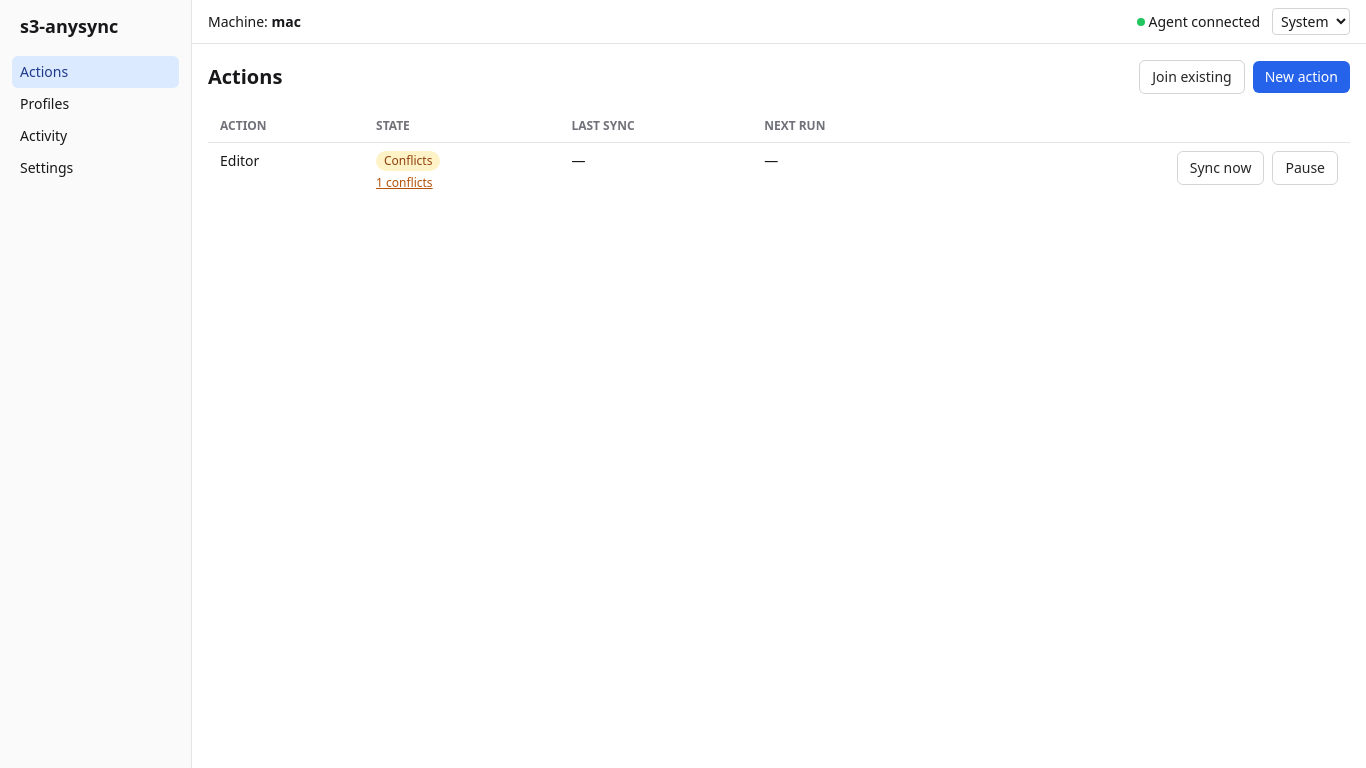
Test: without deletions Apply resolves directly and a failure keeps the choices
The image size is (1366, 768).
What coordinates should you click on to do the following:
click the button "1 conflicts"
I would click on:
 (404, 183)
Its box is [376,175,433,191].
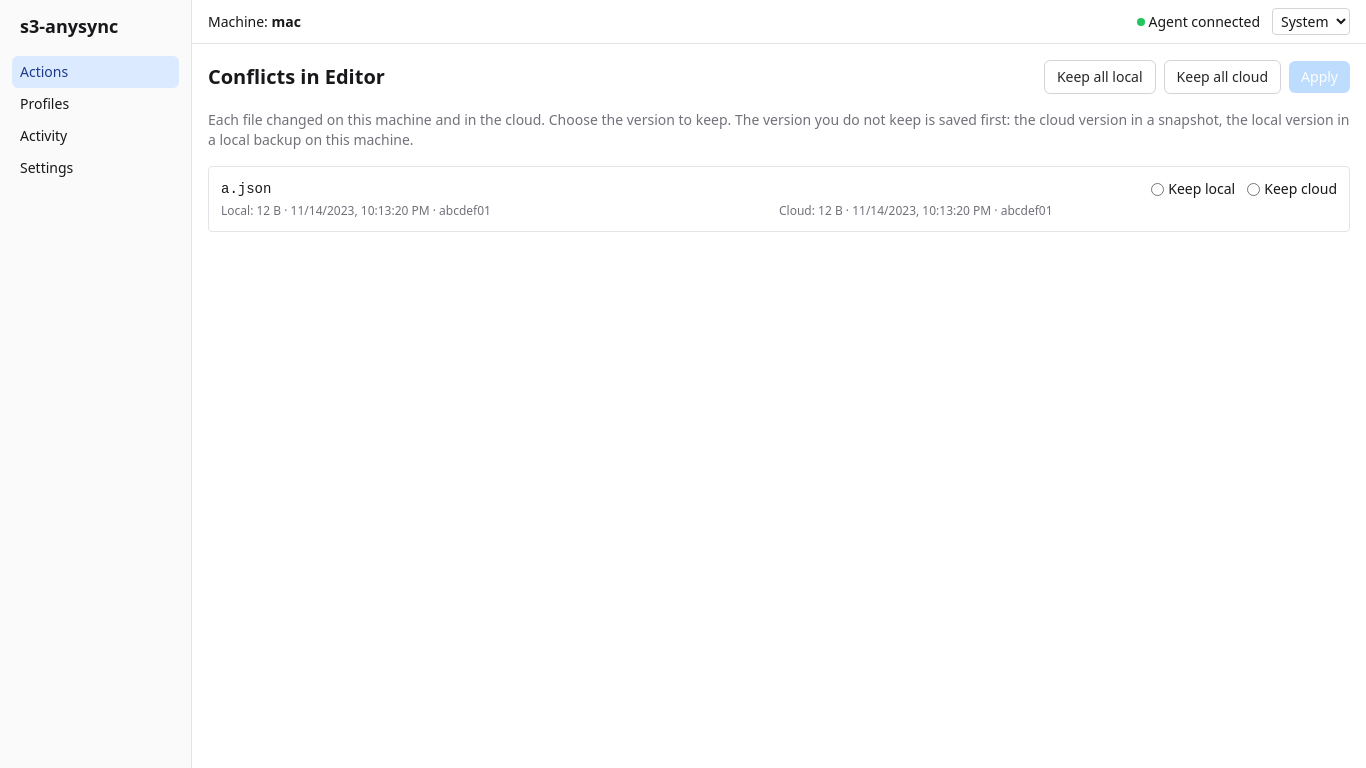
Expected: the heading "Conflicts in Editor" is shown, [208,63,385,91]
What coordinates should you click on to do the following:
click the radio button with aria-label "Keep cloud a.json"
I would click on:
 (1254, 189)
Its box is [1247,182,1260,196].
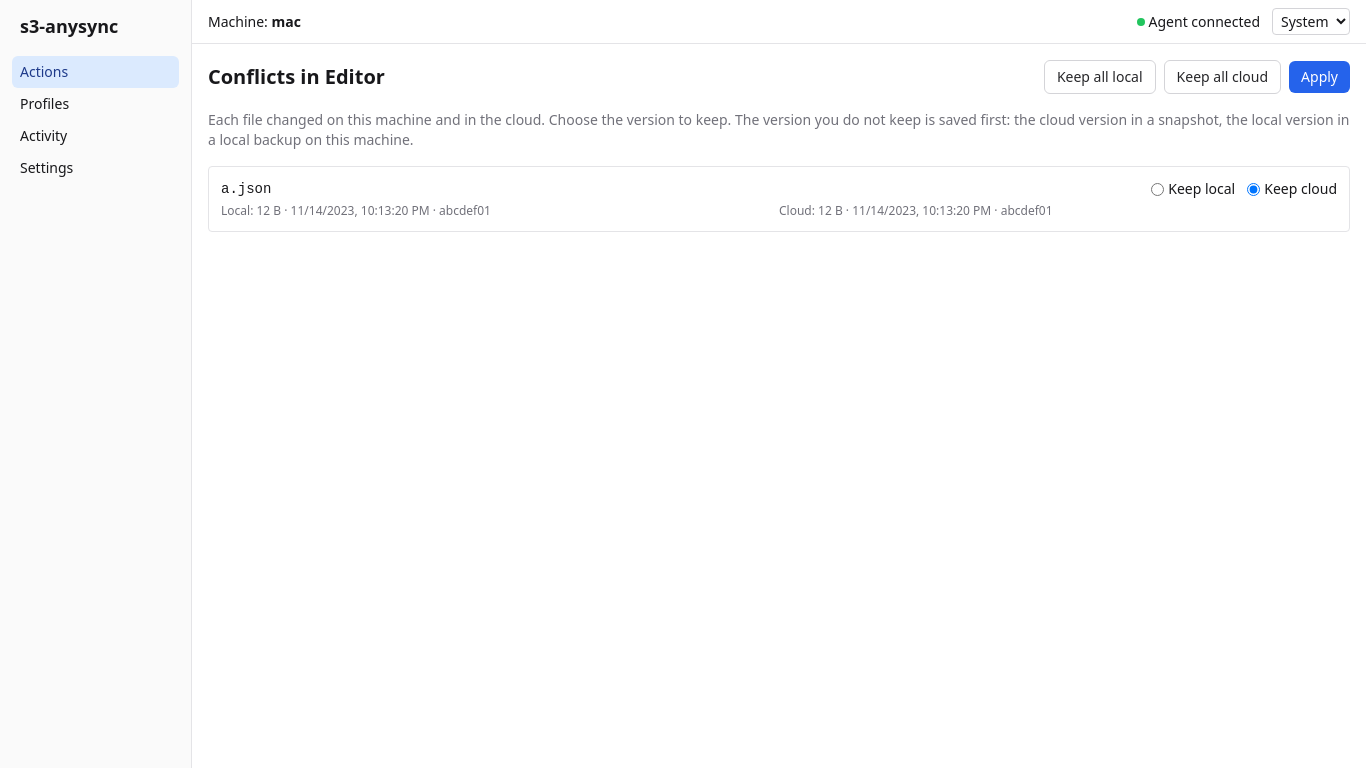
What coordinates should you click on to do the following:
click the button "Apply"
I would click on:
 (1320, 77)
Its box is [1289,61,1350,93].
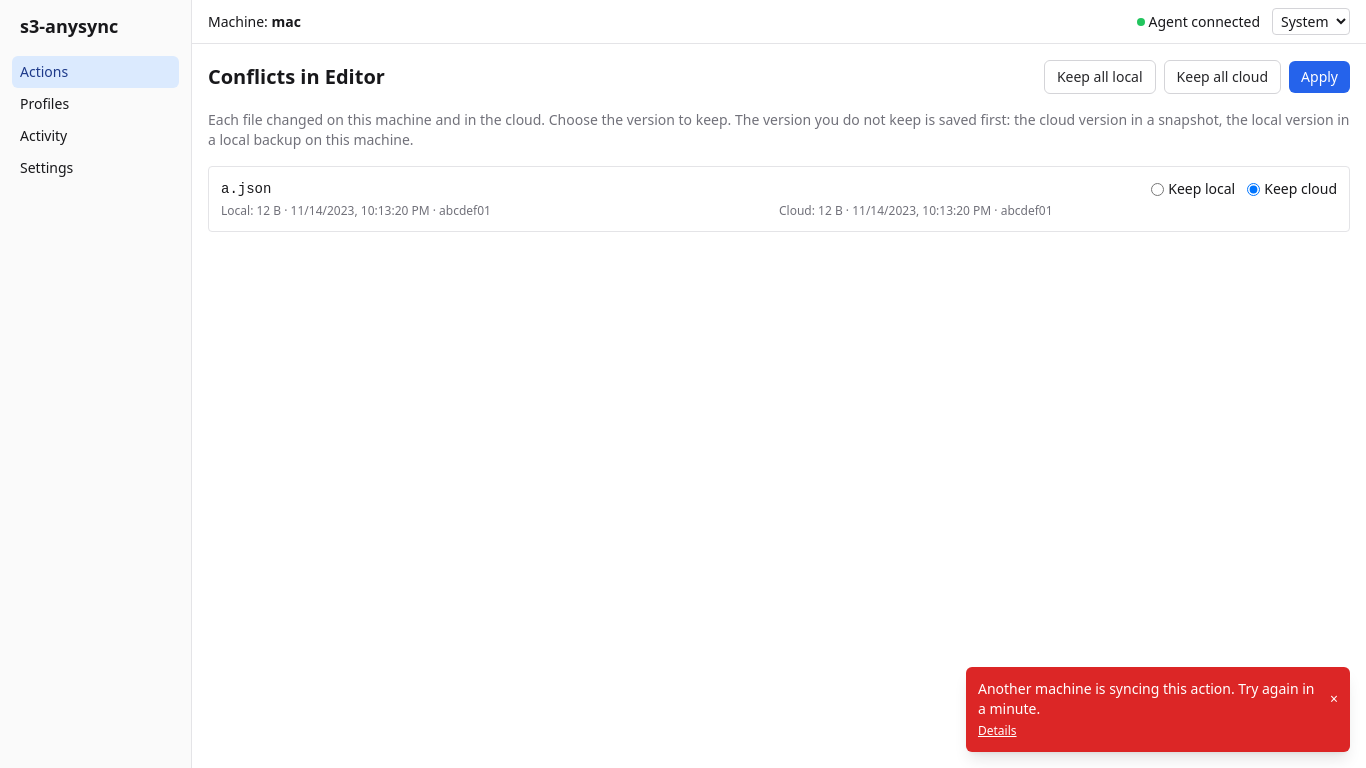
Expected: the radio button with aria-label "Keep cloud a.json" is checked, [1247,182,1260,196]
Expected: the button "Apply" is enabled, [1289,61,1350,93]
Expected: the text "Another machine is syncing this action. Try again in a minute." is shown, [978,679,1322,719]
